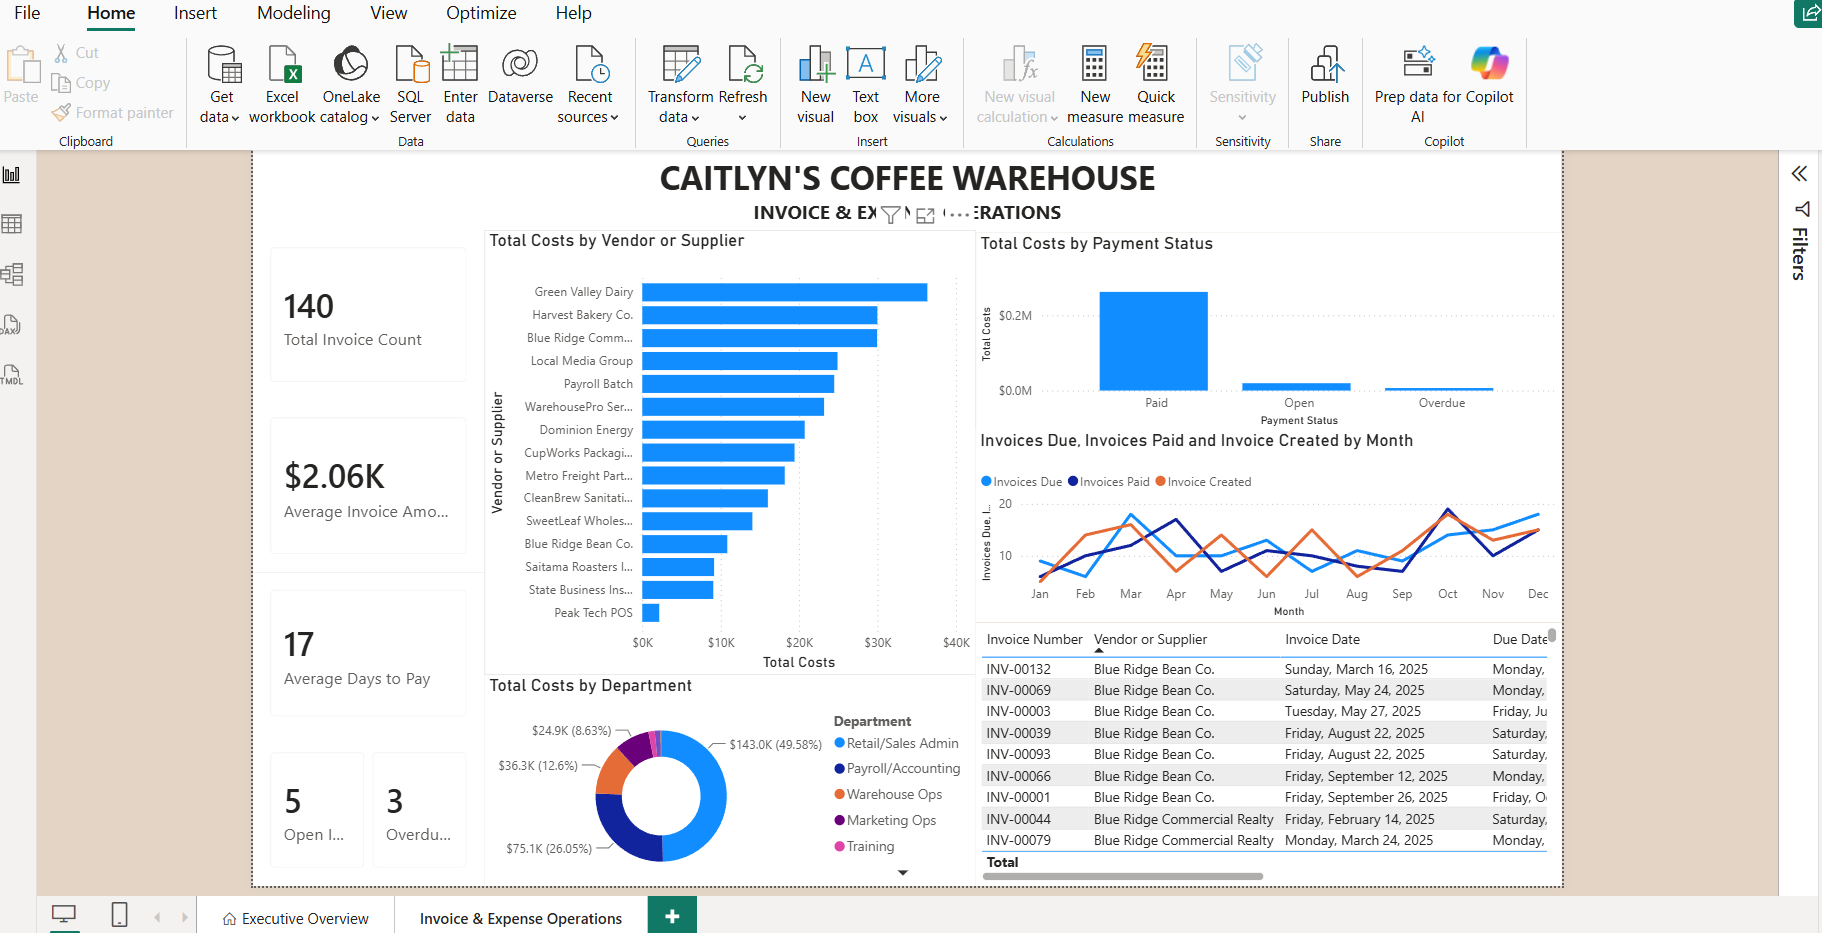

The dashboard page shown, as its layout file describes it:
{"tool":"powerbi","page":{"name":"Invoice & Expense Operations","canvas":[1280,720],"ordinal":1},"visuals":[{"type":"cardVisual","fields":{"Data":["Measures (2).Total Invoice Count"]},"box":[0,78.3,226.2,166.3],"z":0},{"type":"textbox","box":[0,0,1280.3,80.7],"z":1000},{"type":"cardVisual","fields":{"Data":["Measures (2).Average Invoice Amount"]},"box":[0,244.6,226.2,168.8],"z":2000},{"type":"cardVisual","fields":{"Data":["Measures (2).Average Days to Pay"]},"box":[0,413.3,226.2,159],"z":3000},{"type":"cardVisual","fields":{"Data":["Measures (2).Open Invoice Count","Measures (2).Overdue Invoice Count"]},"box":[0,572.3,226.2,148],"z":4000},{"type":"clusteredColumnChart","fields":{"Category":["Costs_Raw PQ.Payment Status"],"Y":["Measures (2).Total Costs"]},"box":[706.8,80.7,573.5,176.1],"z":5000},{"type":"clusteredBarChart","fields":{"Y":["Measures (2).Total Costs"],"Category":["Costs_Raw PQ.Vendor or Supplier"]},"box":[226.2,80.7,480.6,432.9],"z":6000},{"type":"lineChart","title":"Monthly Invoice Lifecycle","fields":{"Category":["Date.Month"],"Y":["Measures (2).Invoices Due","Measures (2).Invoices Paid","Measures (2).Invoice Created"]},"box":[706.8,256.8,573.5,188.3],"z":7000},{"type":"donutChart","fields":{"Category":["Costs_Raw PQ.Department"],"Y":["Measures (2).Total Costs"]},"box":[226.2,513.6,480.6,206.7],"z":8000},{"type":"tableEx","fields":{"Values":["Costs_Raw PQ.Invoice Number                    ","Costs_Raw PQ.Vendor or Supplier","Costs_Raw PQ.Invoice Date","Costs_Raw PQ.Due Date","Costs_Raw PQ.Paid Date","Costs_Raw PQ.Payment Status","Sum(Costs_Raw PQ.Total Cost)"]},"box":[706.8,445.1,573.5,275.1],"z":9000}]}

Visuals, with their boxes on the page's 1280x720 design canvas (x1, y1, x2, y2). These are canvas units, not pixel positions in the 1822x933 screenshot, which may show the page scaled, cropped or inside an application window:
cardVisual - Measures (2).Total Invoice Count: crop(0, 78, 226, 245)
textbox: crop(0, 0, 1280, 81)
cardVisual - Measures (2).Average Invoice Amount: crop(0, 245, 226, 413)
cardVisual - Measures (2).Average Days to Pay: crop(0, 413, 226, 572)
cardVisual - Measures (2).Open Invoice Count x Measures (2).Overdue Invoice Count: crop(0, 572, 226, 720)
clusteredColumnChart - Costs_Raw PQ.Payment Status x Measures (2).Total Costs: crop(707, 81, 1280, 257)
clusteredBarChart - Measures (2).Total Costs x Costs_Raw PQ.Vendor or Supplier: crop(226, 81, 707, 514)
"Monthly Invoice Lifecycle" lineChart: crop(707, 257, 1280, 445)
donutChart - Costs_Raw PQ.Department x Measures (2).Total Costs: crop(226, 514, 707, 720)
tableEx - Costs_Raw PQ.Invoice Number                     x Costs_Raw PQ.Vendor or Supplier: crop(707, 445, 1280, 720)
